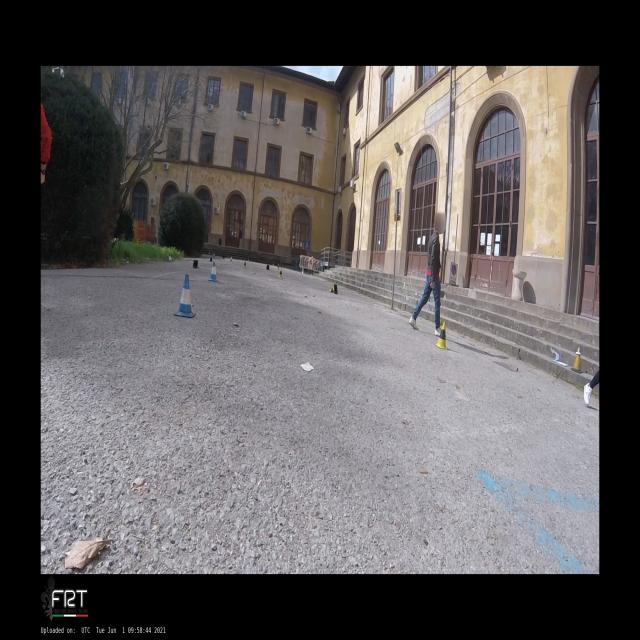blue_cone: (173, 274, 196, 318), (208, 262, 218, 282), (168, 254, 172, 264), (230, 256, 232, 262)
unknown_cone: (570, 347, 583, 374), (193, 260, 199, 268), (266, 264, 270, 271), (208, 257, 212, 262)
yellow_cone: (434, 322, 447, 349), (328, 284, 338, 295), (278, 267, 283, 279), (243, 260, 247, 269)
